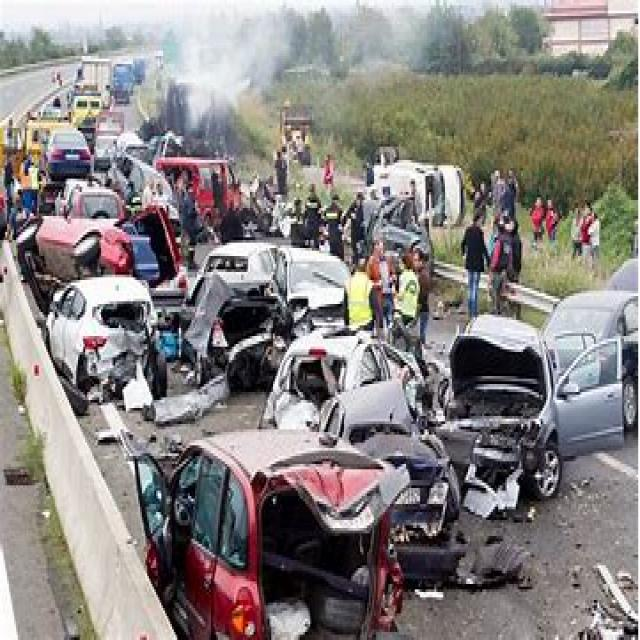Accident: (2, 174, 414, 441), (134, 330, 524, 580), (405, 184, 632, 494), (293, 35, 509, 339), (22, 86, 285, 314), (37, 29, 245, 249)
